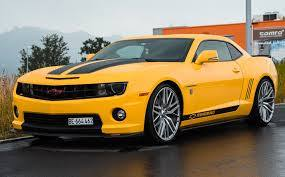car: (12, 35, 279, 146)
